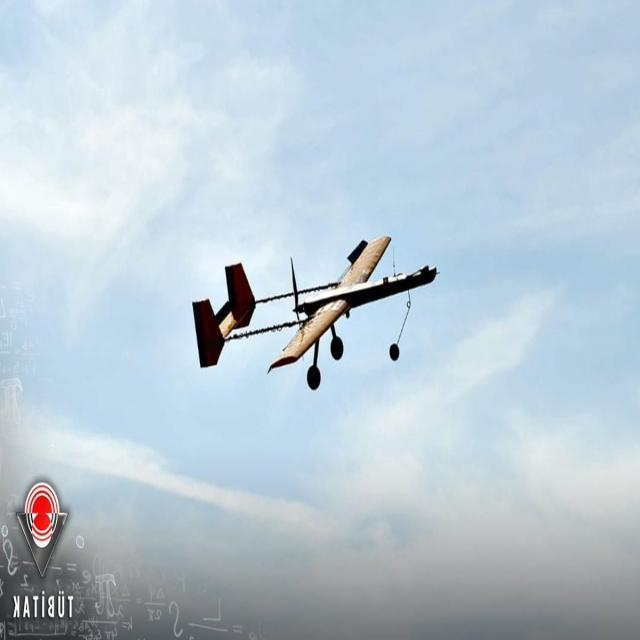iha: (179, 216, 457, 398)
